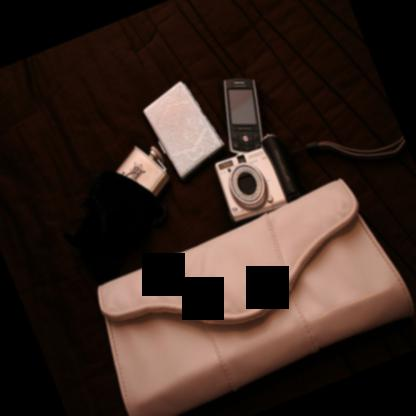handbag: (97, 177, 415, 416)
